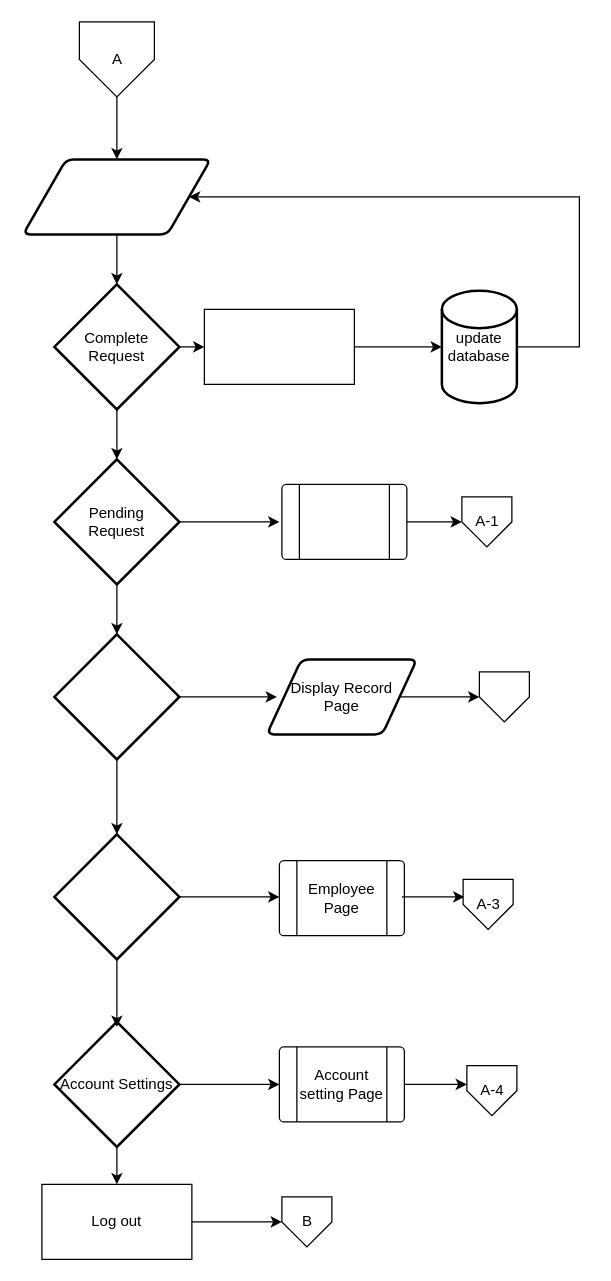
Image size: 611x1281. Some labels were removed from this diagram. Each missing label, with the centre of its shape:
A-2: [503,696]
change record state to "completed": [278,346]
Display Dashboard Page: [116,196]
Employees: [116,896]
Past Records: [116,696]
Pending Request Page: [344,521]
